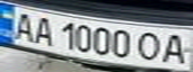0: (90, 24, 115, 56), (112, 27, 133, 60), (72, 22, 93, 54)
1: (54, 20, 78, 51)
A: (160, 30, 193, 65), (6, 10, 39, 43), (30, 15, 57, 46)
O: (136, 29, 166, 62)
